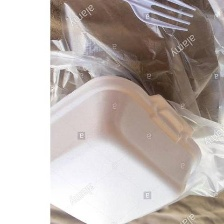foam_box: (51, 72, 206, 224)
